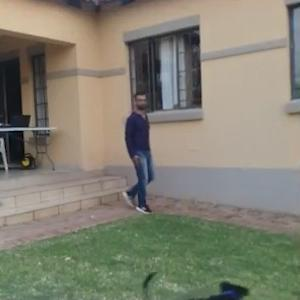follow: (132, 96, 159, 189)
